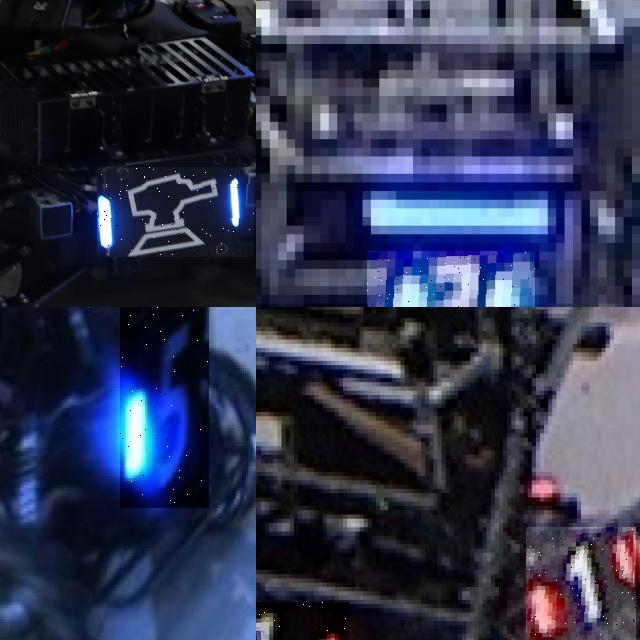B2: (366, 251, 535, 307)
B5: (119, 307, 209, 508)
Bs: (97, 168, 255, 258)
R1: (525, 527, 636, 640)
